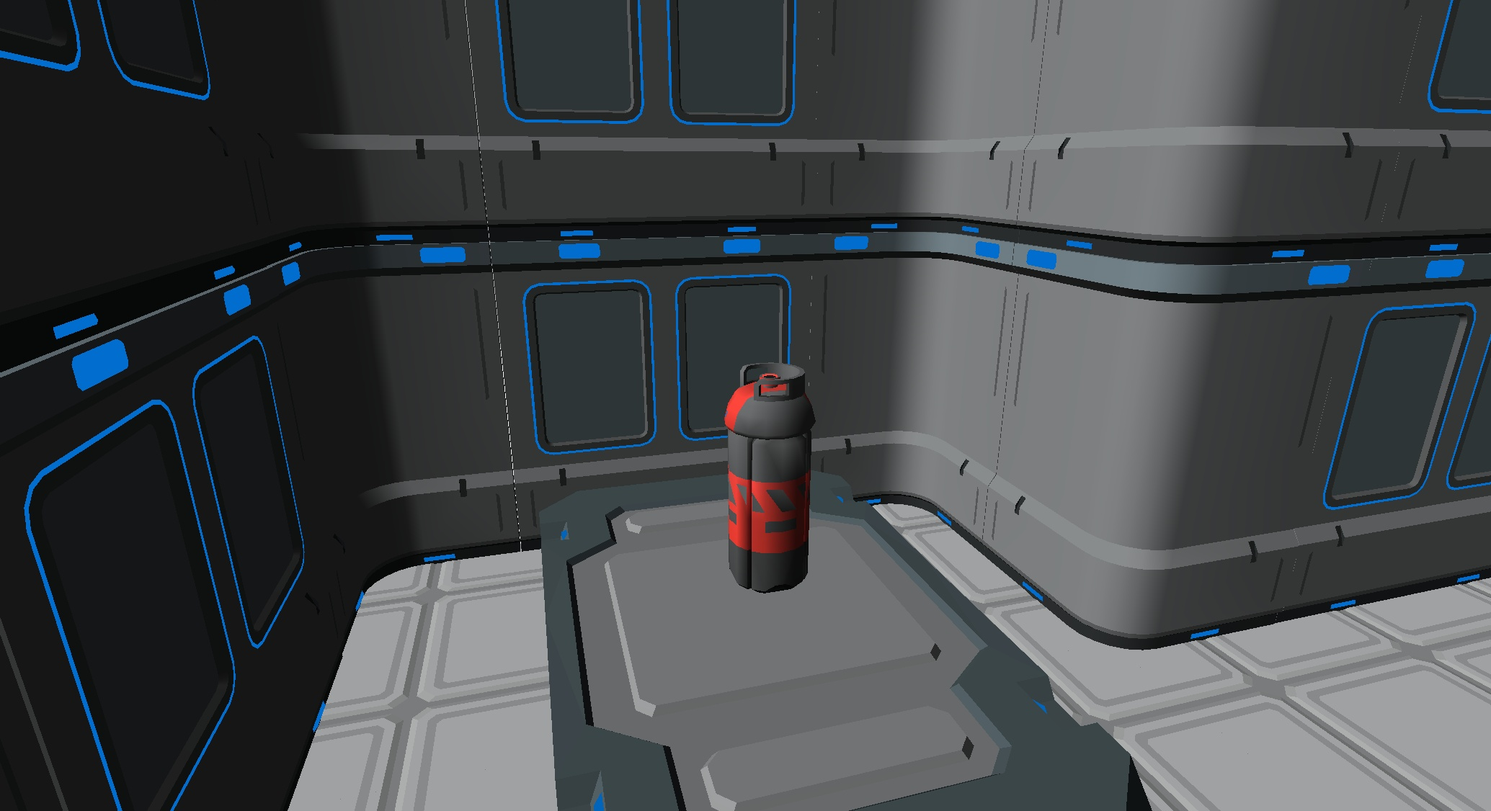red_barrel: (726, 364, 815, 591)
